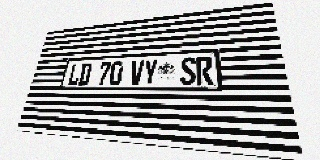0: (108, 61, 123, 85)
7: (97, 62, 112, 85)
D: (77, 63, 92, 85)
L: (67, 63, 82, 85)
R: (196, 56, 213, 85)
S: (180, 57, 196, 85)
V: (129, 60, 144, 85)
Y: (143, 59, 158, 85)
